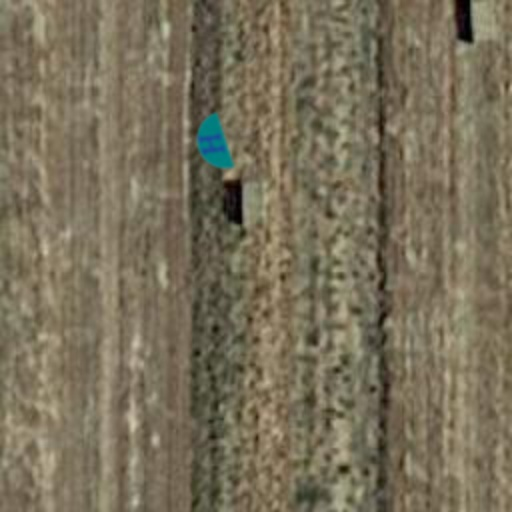semicircle: (174, 106, 250, 182)
